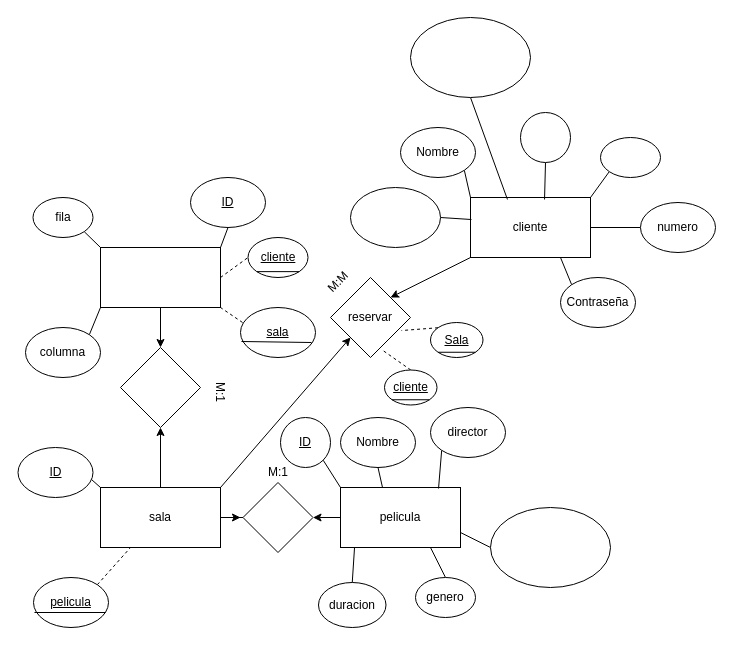
Some shapes in this 733 by 645 pixel diagram are drawn without their labels. Here are the shapes that lost their labels. From the top down, the centre of each, then its label:
At point (470, 57): "Correo Electronico".
At point (545, 137): "DNI".
At point (630, 157): "tarjeta".
At point (395, 217): "Apellido".
At point (160, 277): "Asiento".
At point (160, 387): "albergar".
At point (277, 517): "exhibir".
At point (550, 547): "dimensiones(2D/3D)".
